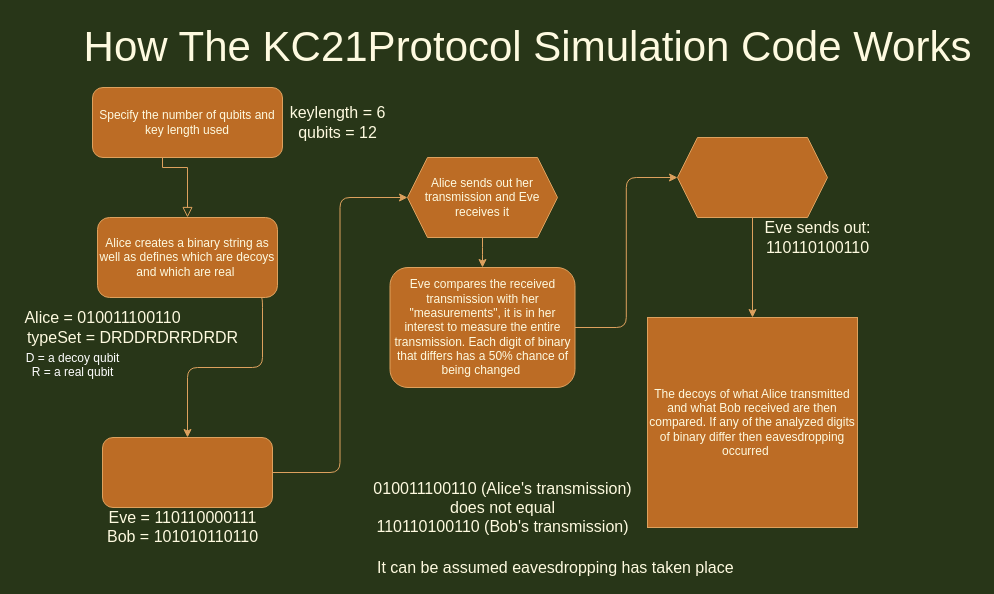
This 994x594 diagram has some shape labels left out. The centre of each missing label's shape, as x and y in pixels:
Eve sends out her transmission and Bob receives it: (752,177)
Eve, and Bob both create a binary "measurement" to compare their received data: (187,472)
